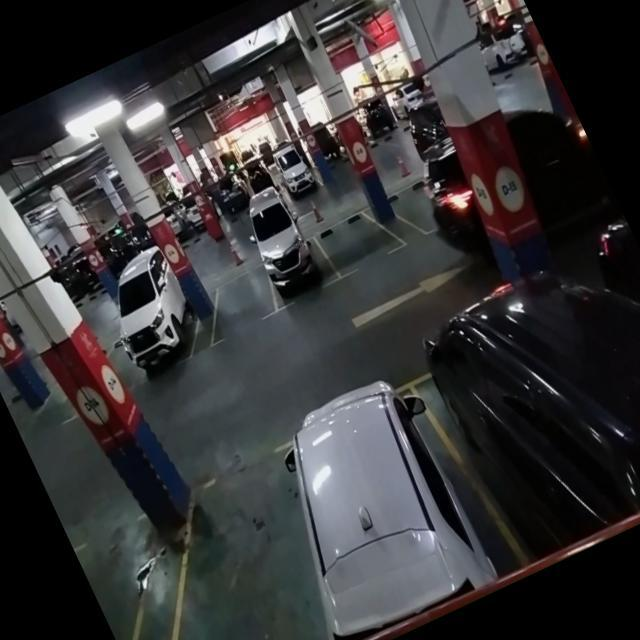empty: (119, 452, 343, 640), (195, 261, 284, 343), (313, 200, 398, 280)
occupied: (410, 264, 640, 569), (265, 372, 512, 640), (95, 257, 204, 384), (245, 204, 341, 311)
